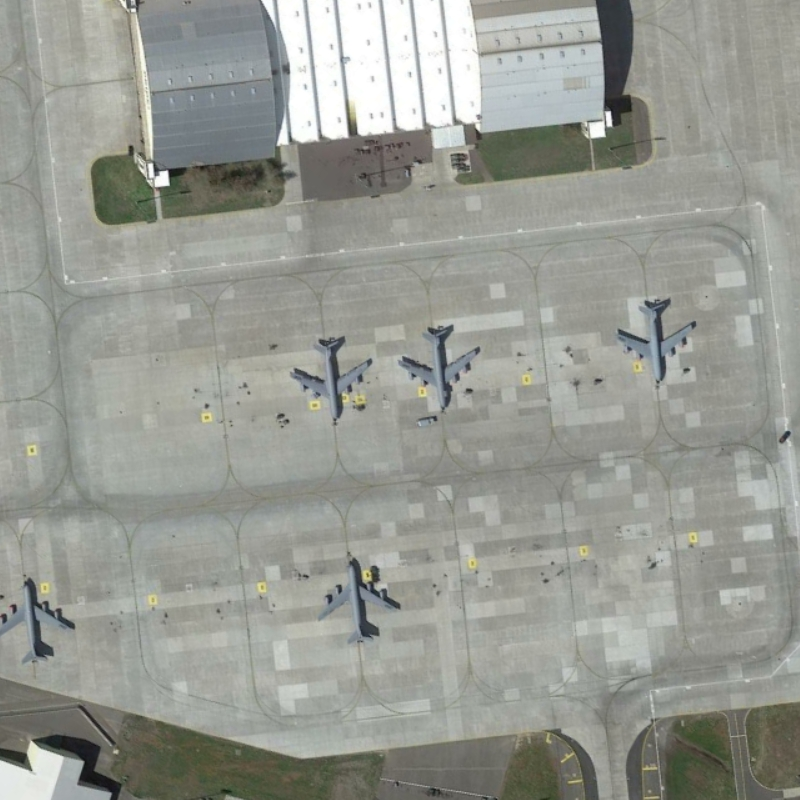A14: (282, 328, 383, 428), (393, 318, 493, 416), (611, 284, 701, 391), (312, 550, 405, 650), (1, 576, 84, 672)
